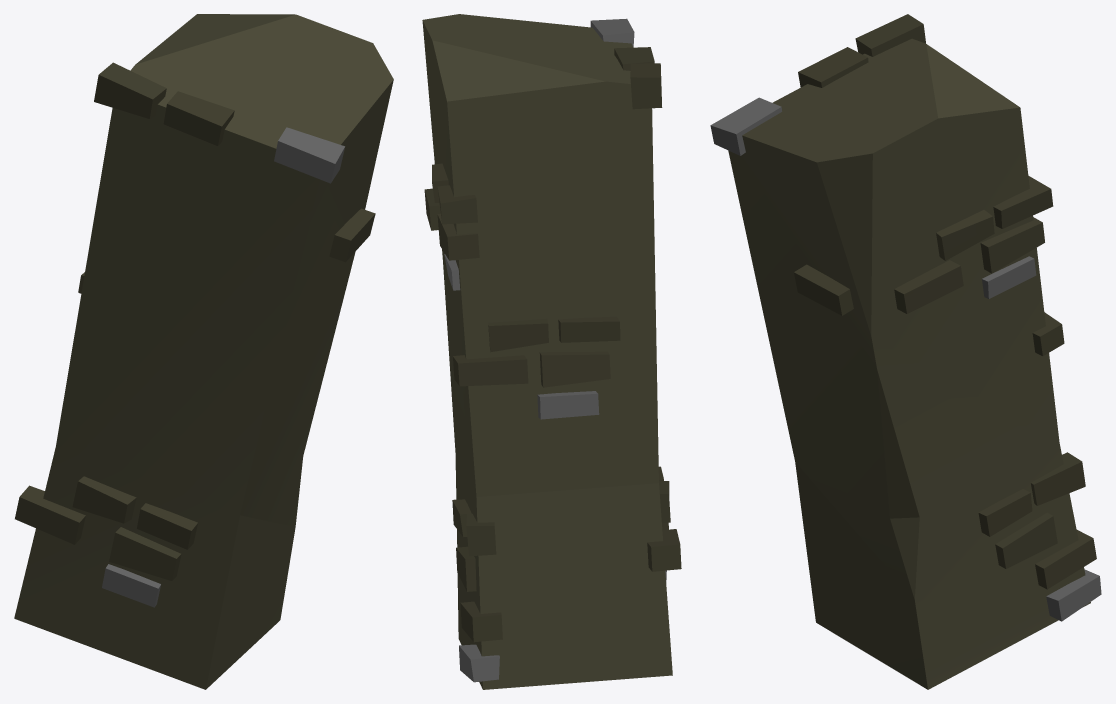
Rendered from ea_arch_wall03_rubble_01e__pre_14_lev1.glb.
The picture shows the model from 3 angles, left to right: view 1: azimuth 30°, elevation 25°; view 2: azimuth 150°, elevation 25°; view 3: azimuth 270°, elevation 25°; orthographic projection. The views are drawn at different scales.
Visible parts, largest first — view 1: ea_arch_wall03_rubble_01e__pre_14_lev1; view 2: ea_arch_wall03_rubble_01e__pre_14_lev1; view 3: ea_arch_wall03_rubble_01e__pre_14_lev1.
Part boxes in pixels (x1,y1,x2,y2): ea_arch_wall03_rubble_01e__pre_14_lev1: (14, 14, 393, 689); ea_arch_wall03_rubble_01e__pre_14_lev1: (422, 14, 681, 689); ea_arch_wall03_rubble_01e__pre_14_lev1: (710, 14, 1101, 689).
Bounding box in the file's own units: 1.37 × 2.55 × 1.55.
Materials: 1 (1 with a texture image).
